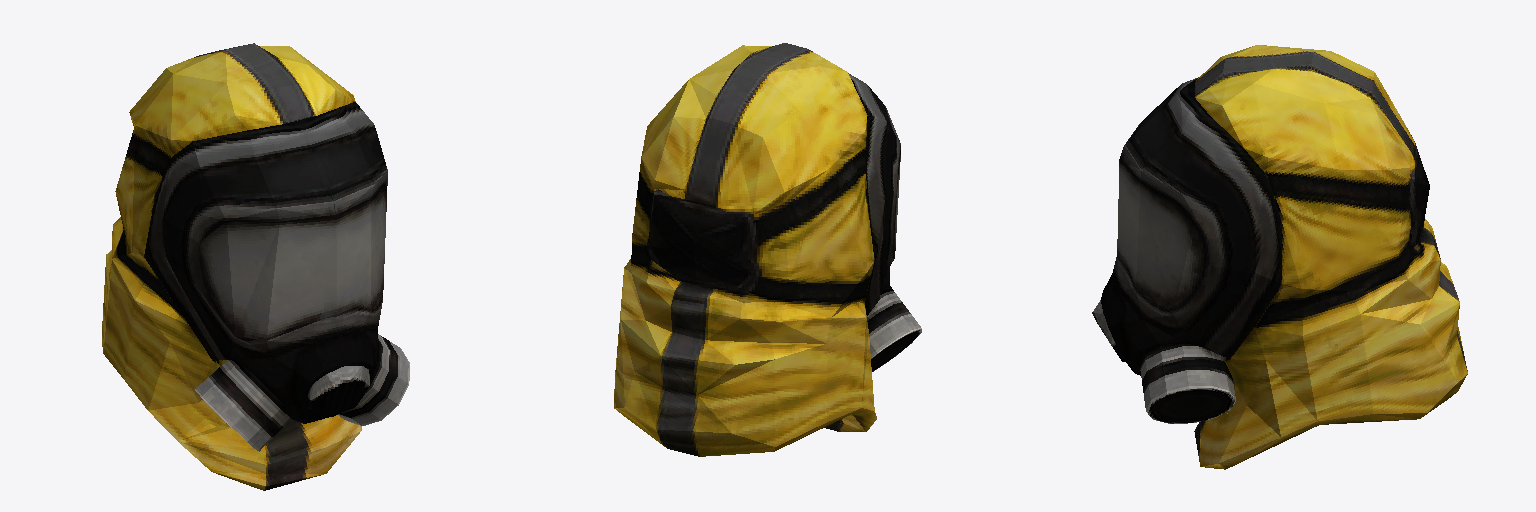
3 views of the same model, side by side, from view 1: azimuth 30°, elevation 25°; view 2: azimuth 150°, elevation 25°; view 3: azimuth 270°, elevation 25° (orthographic).
Bounding box in the file's own units: 0.233 × 0.3903 × 0.3364.
Materials: 1 (1 with a texture image).